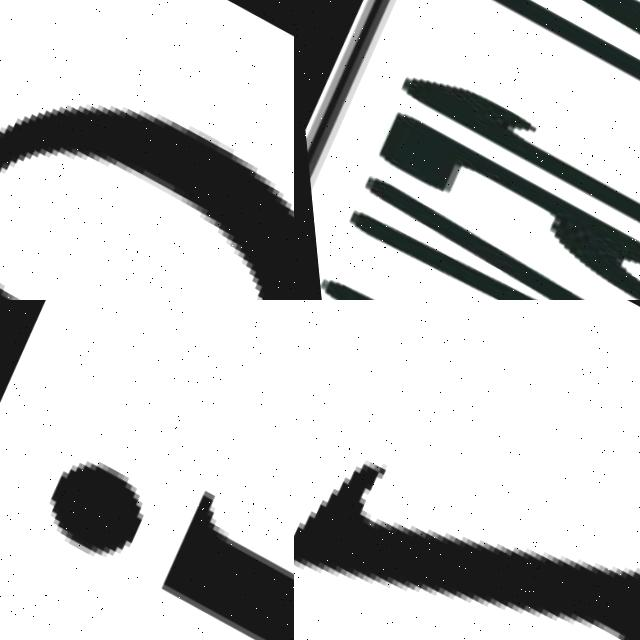1: (373, 43, 640, 300)
5: (354, 98, 640, 300)
A: (447, 0, 640, 223), (498, 0, 640, 164)
I: (294, 300, 640, 640)
J: (3, 366, 294, 640)
L: (436, 0, 640, 291)
Q: (0, 14, 294, 300)
V: (337, 168, 640, 300)
